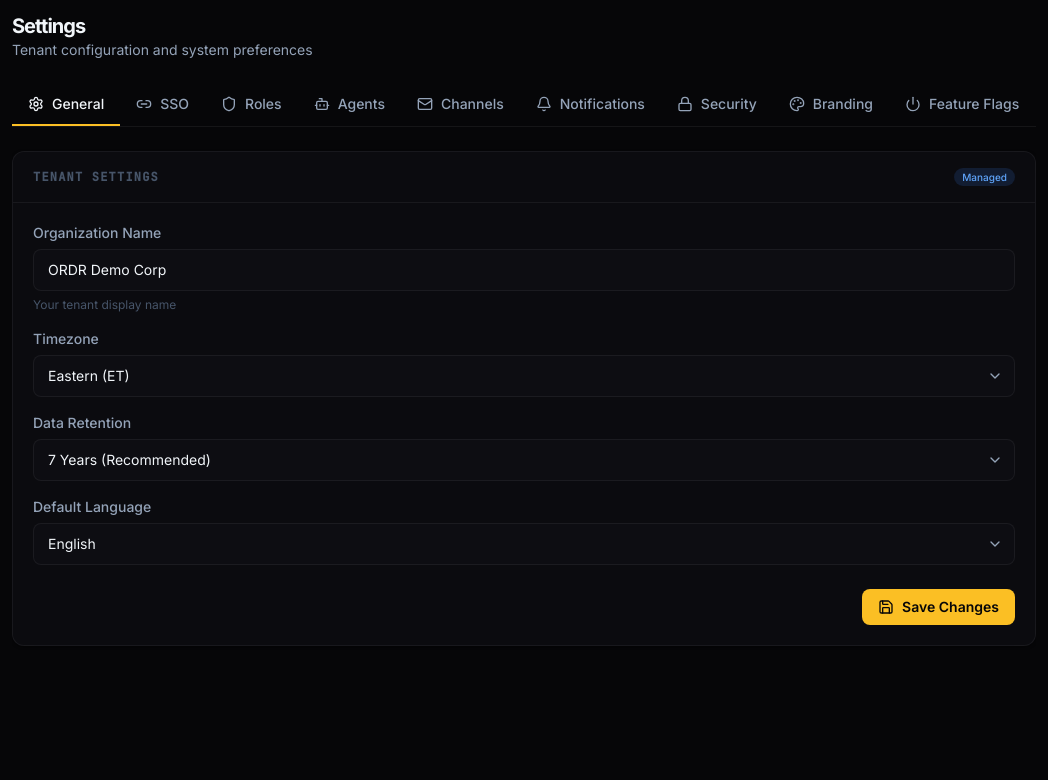
Test case: Settings › switching to Roles tab shows Custom Roles card
Expected: the tab "General" is shown, 12,84 -> 120,126
Click the tab "Roles".
click(251, 104)  # box 205,84 -> 298,124
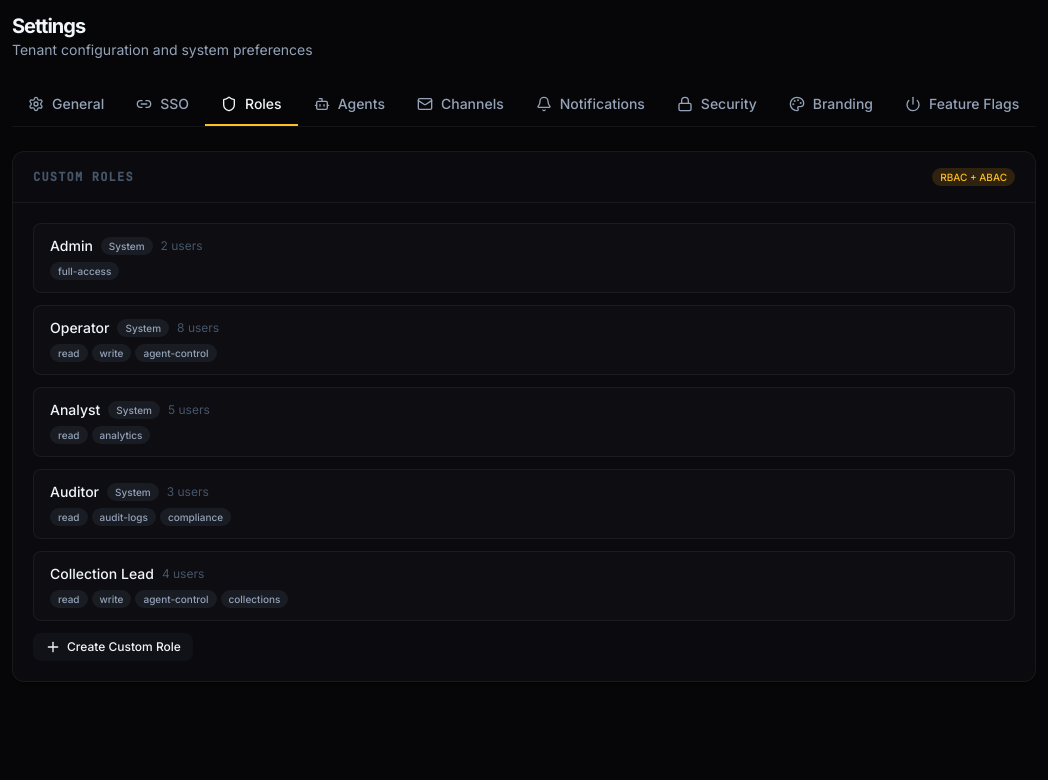
Expected: the heading "Custom Roles" is shown, 33,169 -> 134,185
